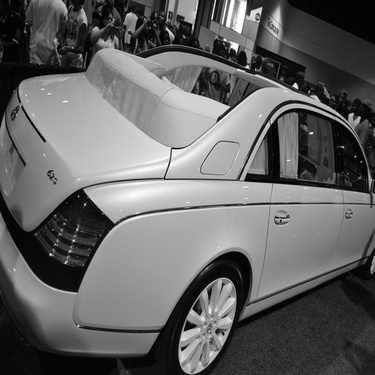car: (5, 3, 368, 370)
